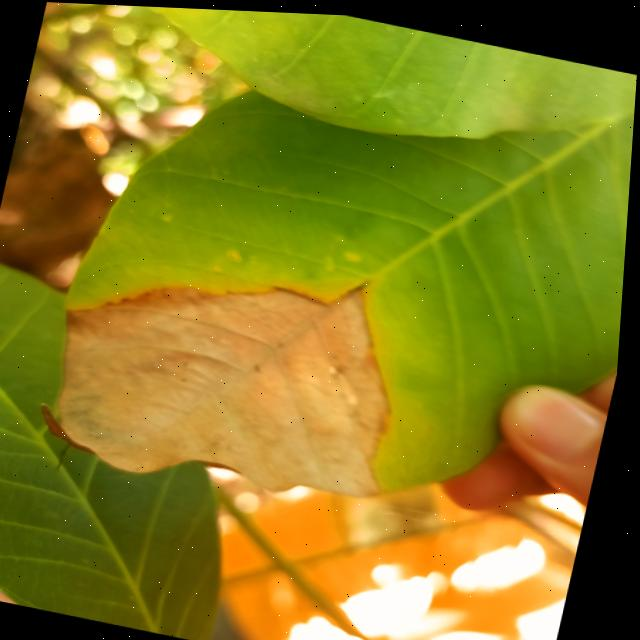Leaf-Blight: (37, 221, 432, 520)
